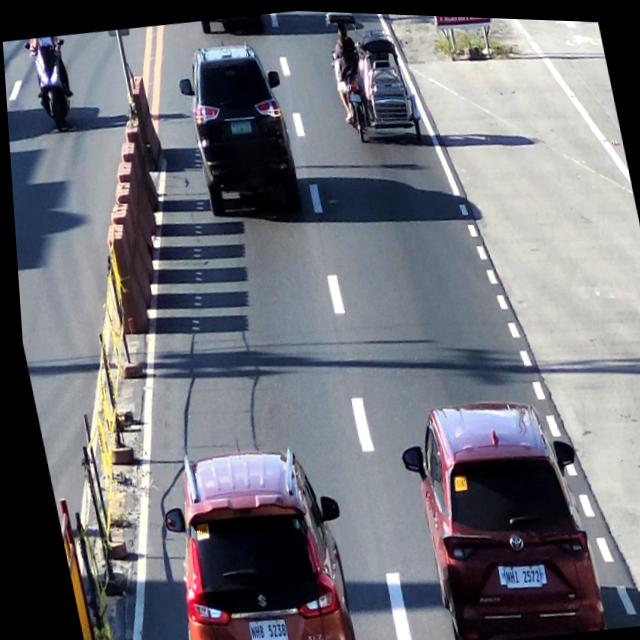Car: (397, 388, 602, 640), (149, 437, 350, 640), (175, 36, 300, 215)
License-Plate: (494, 558, 536, 590), (237, 611, 281, 640), (227, 114, 253, 136)
Tricycle: (327, 10, 419, 146)
